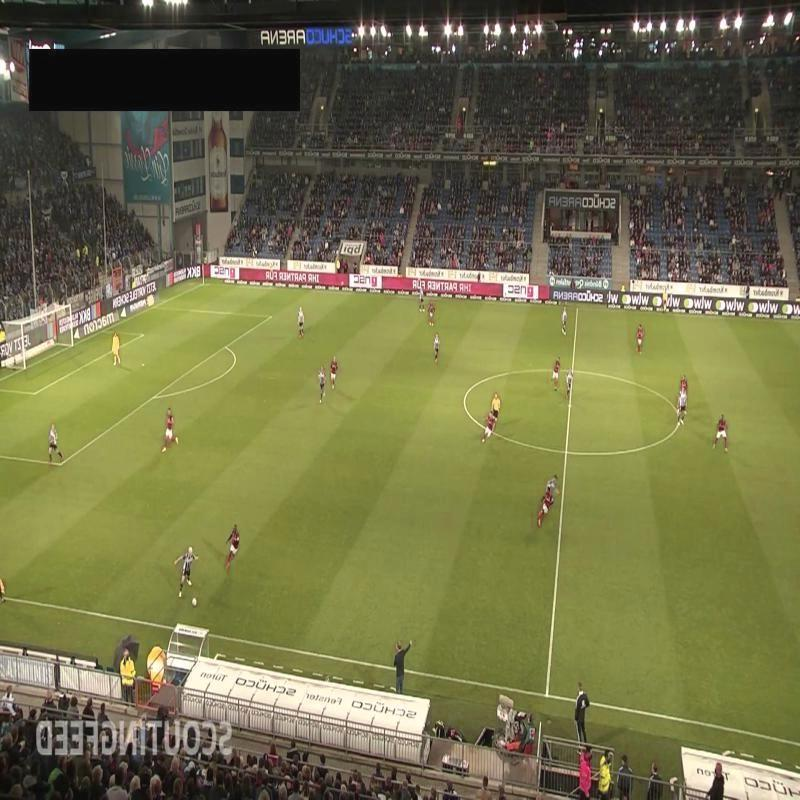1: (196, 278, 210, 292)
10: (218, 340, 232, 354)
11: (147, 390, 161, 404)
12: (53, 457, 67, 472)
13: (572, 300, 586, 314)
14: (566, 362, 580, 376)
15: (560, 443, 574, 457)
16: (538, 686, 556, 704)
2: (148, 301, 162, 315)
3: (96, 325, 110, 339)
7: (136, 328, 150, 342)
8: (27, 388, 42, 401)
9: (264, 310, 278, 324)
c: (672, 412, 690, 430), (458, 390, 473, 404)
